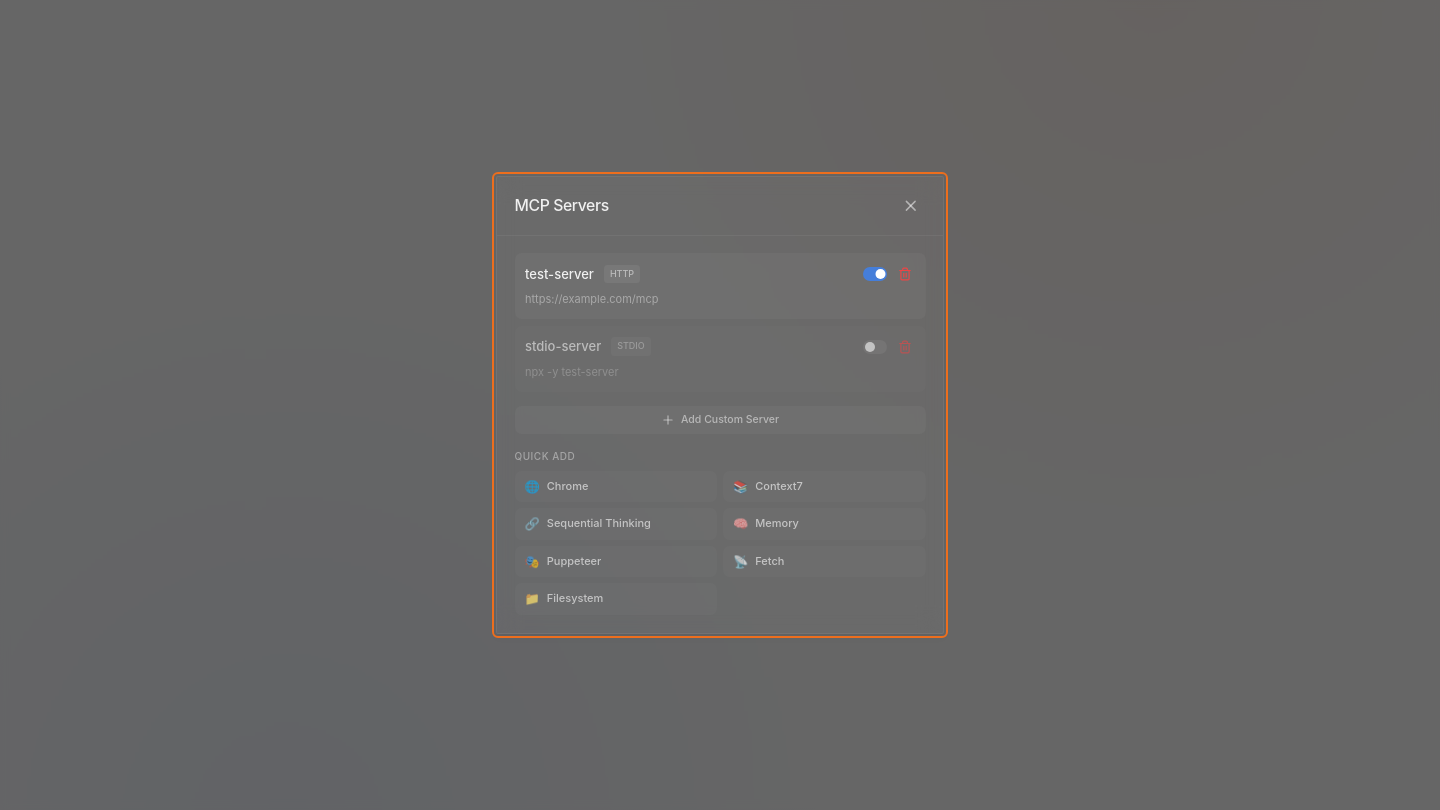
Test: MCPModal › add server form › should show URL field when http type button clicked
This screenshot has width=1440, height=810.
Click the button "Add Custom Server".
click(720, 420)  # box [514, 406, 926, 434]
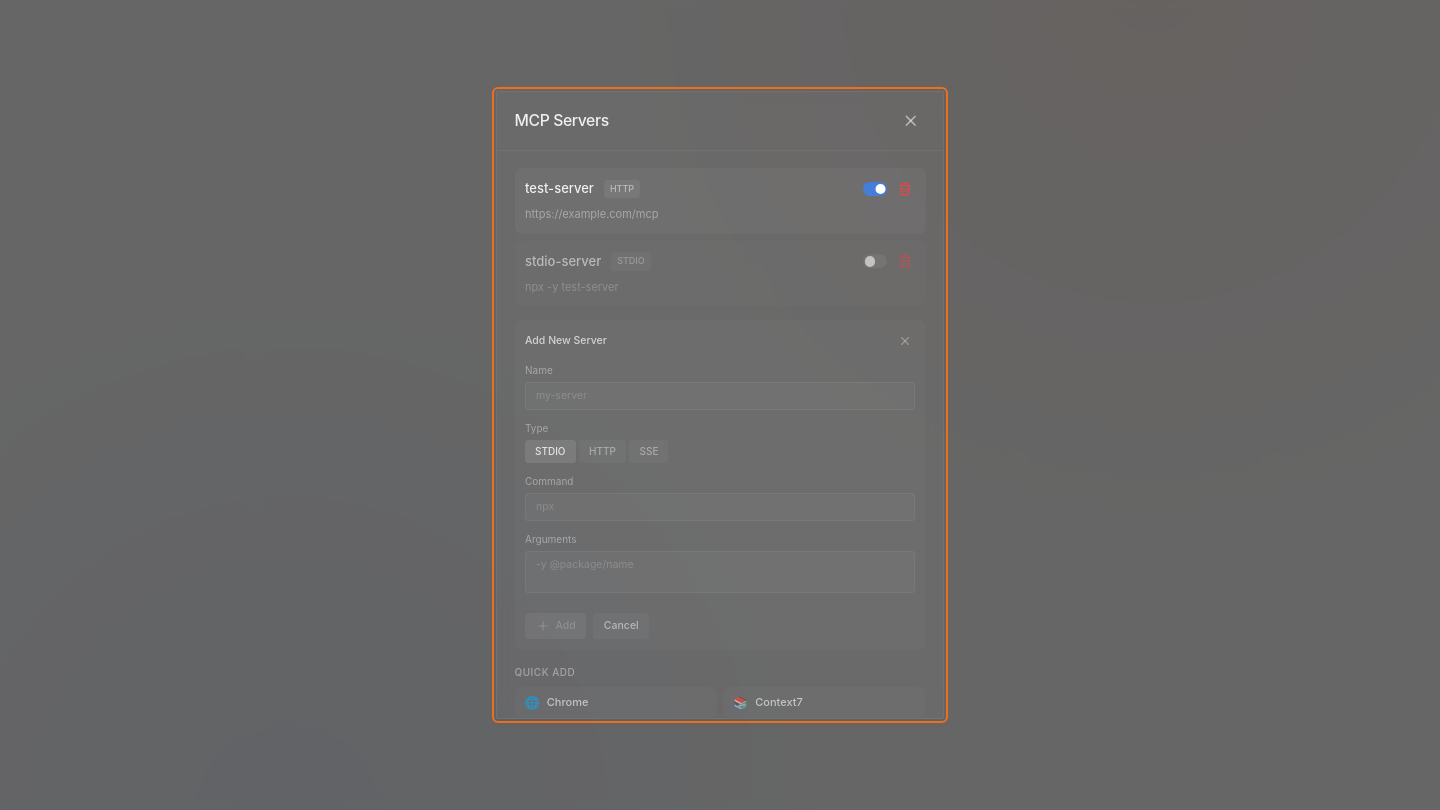
Click the button "http".
click(602, 451)  # box [579, 440, 626, 463]
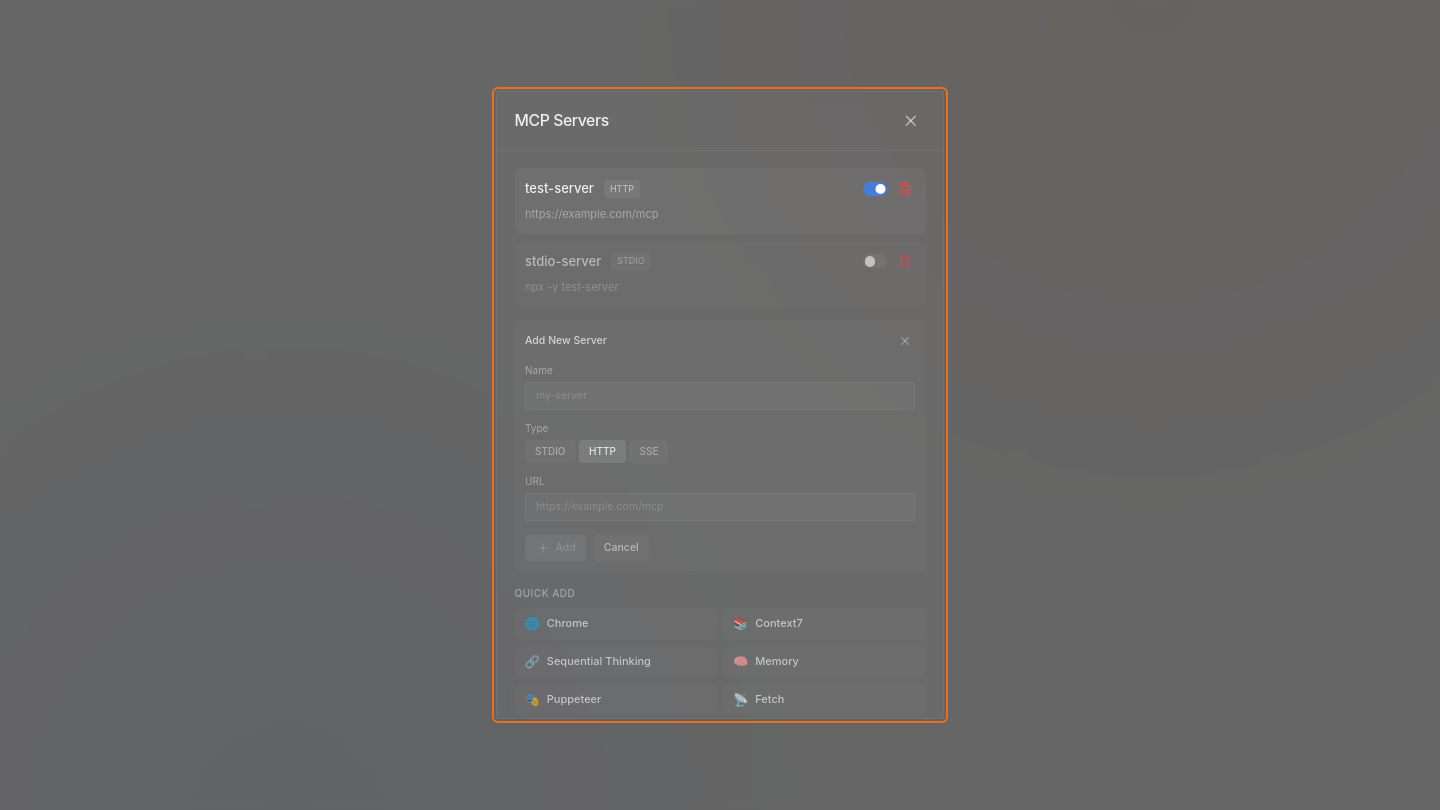
expect the field with placeholder "https://example.com/mcp" is shown: met, box [525, 493, 915, 521]
